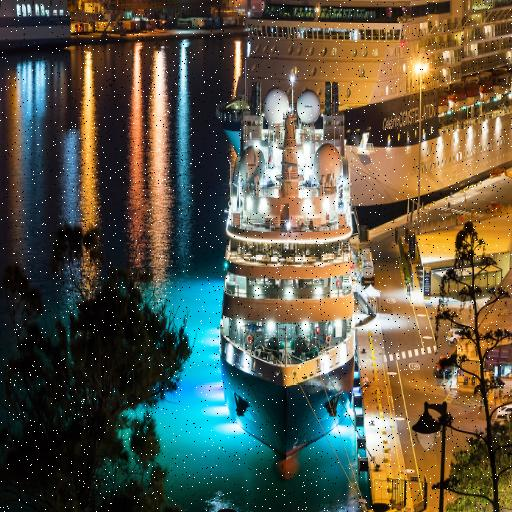cruises: (219, 78, 364, 469)
